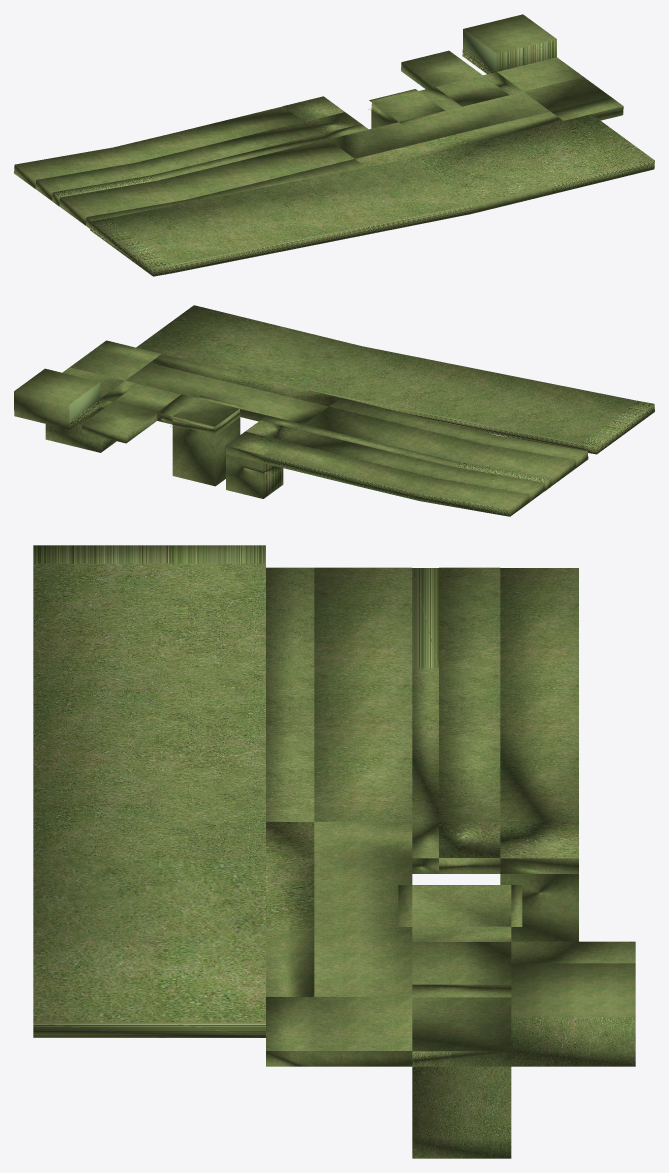
File: decor2.obj
The picture shows the model from 3 angles, top to bottom: view 1: azimuth 30°, elevation 25°; view 2: azimuth 150°, elevation 25°; view 3: azimuth 270°, elevation 25°; orthographic projection. The views are drawn at different scales.
Visible parts, largest first — view 1: decor2_Plane; view 2: decor2_Plane; view 3: decor2_Plane.
Boxes of the visible parts, x1=… form: decor2_Plane: x1=14, y1=14, x2=654, y2=276; decor2_Plane: x1=14, y1=305, x2=654, y2=516; decor2_Plane: x1=33, y1=545, x2=635, y2=1158.
Size of the model in its own units: 24036 by 3571 by 12783.
1 material, 1 textured.
